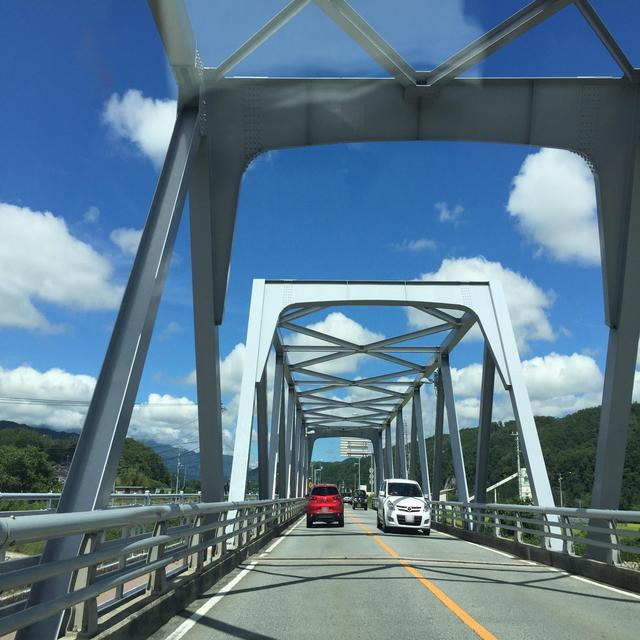Barrier: (0, 490, 307, 639), (426, 501, 639, 572)
Billboard: (360, 485, 370, 495)
Car: (305, 478, 431, 535)
Vegetation: (0, 426, 77, 492), (319, 456, 373, 508), (251, 483, 258, 493)
